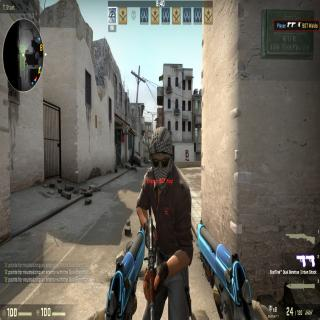T-Body: (127, 118, 196, 320)
T-Head: (142, 124, 180, 195)
